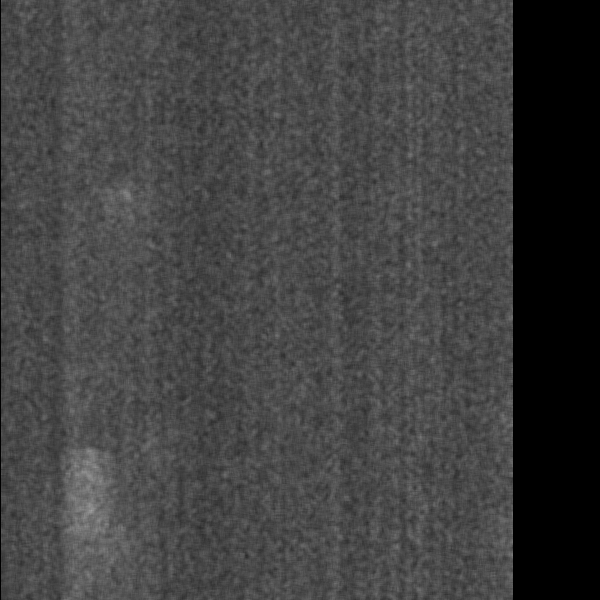spark: (390, 56, 460, 208), (342, 539, 394, 600), (3, 276, 28, 294), (7, 311, 24, 324), (14, 353, 26, 364)
